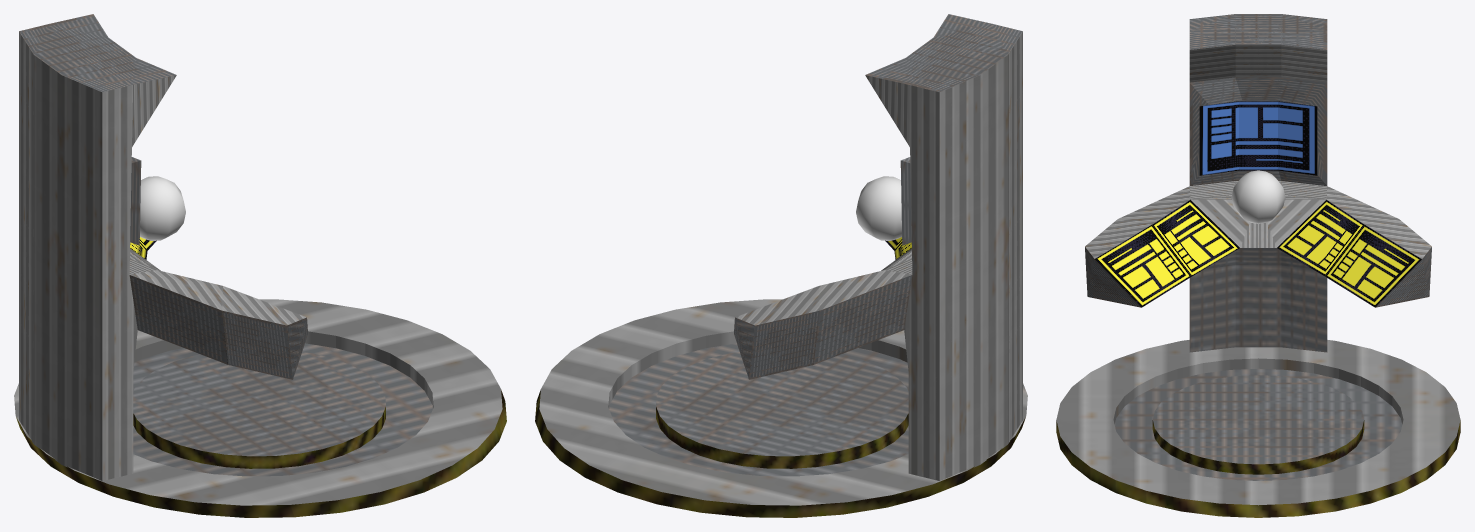
The model's file is save_station.glb.
3 views of the same model, side by side, from view 1: azimuth 30°, elevation 25°; view 2: azimuth 150°, elevation 25°; view 3: azimuth 270°, elevation 25° (orthographic). The views are drawn at different scales.
Parts seen in each view (by area): view 1: console, platform, globe; view 2: console, platform, globe; view 3: console, platform, globe.
Boxes of the visible parts, x1,y1,x2,y2 form: console: [19, 14, 307, 480]; platform: [14, 299, 506, 517]; globe: [140, 176, 185, 240]; console: [734, 14, 1022, 480]; platform: [535, 299, 1027, 517]; globe: [856, 176, 901, 240]; console: [1085, 14, 1431, 352]; platform: [1056, 340, 1460, 517]; globe: [1231, 170, 1285, 223].
Bounding box in the file's own units: 3.03 × 2.72 × 3.
Materials: 2 (1 with a texture image).
